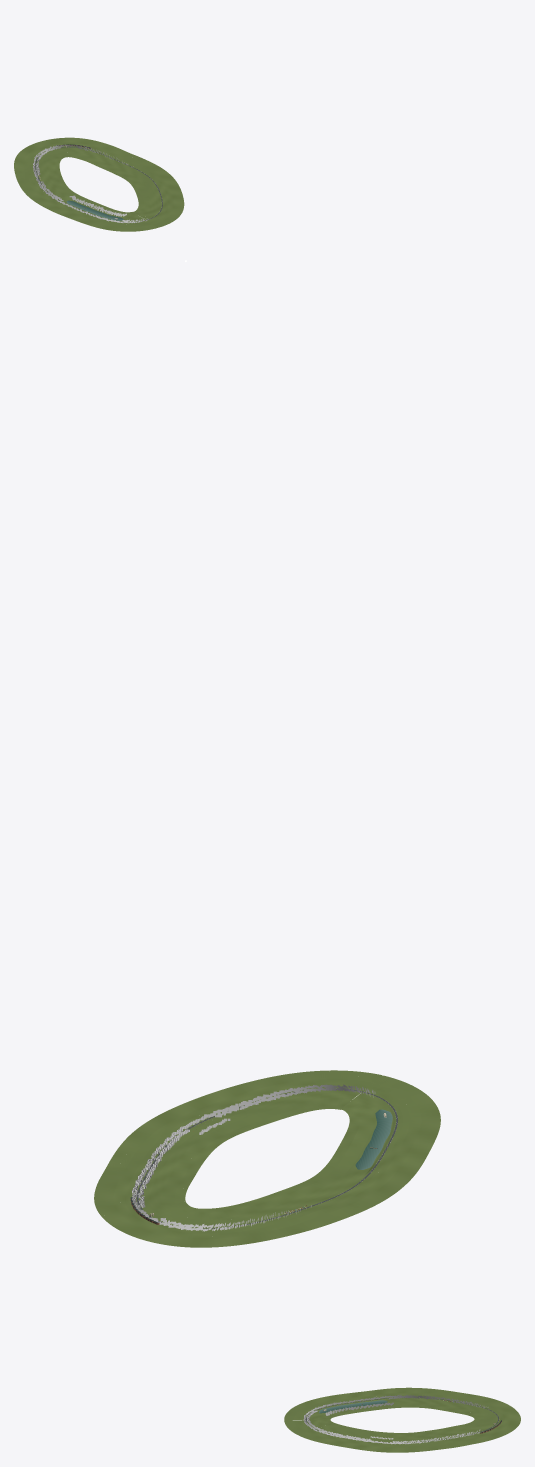
Rendered from prospect.glb.
3 views of the same model, one above another, from view 1: azimuth 30°, elevation 25°; view 2: azimuth 150°, elevation 25°; view 3: azimuth 270°, elevation 25° (orthographic). The views are drawn at different scales.
Parts seen in each view (by area): view 1: BrooklynLawn_029, BrooklynLawn_035, BrooklynLawn_042, BrooklynLawn_041, BrooklynLawn_036, BrooklynLawn_043, BrooklynLawn_044, BrooklynLawn_028, BrooklynLawn_001, BrooklynLawn_033, BrooklynLawn_031, BrooklynLawn_045 (+7 smaller); view 2: BrooklynLawn_043, BrooklynLawn_042, BrooklynLawn_044, BrooklynLawn_041, BrooklynLawn_029, BrooklynLawn_045, BrooklynLawn_036, BrooklynLawn_033, BrooklynLawn_028, BrooklynLawn_035, BrooklynLawn_031; view 3: BrooklynLawn_035, BrooklynLawn_041, BrooklynLawn_042, BrooklynLawn_036, BrooklynLawn_043, BrooklynLawn_044, BrooklynLawn_039, BrooklynLawn_029, BrooklynLawn_033, BrooklynLawn_001, BrooklynLawn_028, BrooklynLawn_040 (+14 smaller).
Part boxes in pixels (x1,y1,x2,y2): BrooklynLawn_029: [136, 191, 183, 201]; BrooklynLawn_035: [88, 147, 130, 167]; BrooklynLawn_042: [14, 169, 61, 179]; BrooklynLawn_041: [14, 161, 59, 170]; BrooklynLawn_036: [77, 141, 116, 161]; BrooklynLawn_043: [17, 176, 64, 187]; BrooklynLawn_044: [21, 183, 69, 196]; BrooklynLawn_028: [138, 200, 184, 208]; BrooklynLawn_001: [136, 207, 182, 221]; BrooklynLawn_033: [113, 159, 157, 177]; BrooklynLawn_031: [130, 175, 176, 187]; BrooklynLawn_045: [29, 189, 75, 204]; BrooklynLawn_043: [270, 1186, 357, 1224]; BrooklynLawn_042: [244, 1195, 326, 1234]; BrooklynLawn_044: [293, 1178, 385, 1213]; BrooklynLawn_041: [220, 1203, 294, 1242]; BrooklynLawn_029: [210, 1084, 292, 1123]; BrooklynLawn_045: [310, 1169, 405, 1199]; BrooklynLawn_036: [94, 1182, 187, 1199]; BrooklynLawn_033: [116, 1136, 211, 1162]; BrooklynLawn_028: [242, 1075, 314, 1115]; BrooklynLawn_035: [98, 1168, 194, 1188]; BrooklynLawn_031: [152, 1106, 241, 1140]; BrooklynLawn_035: [439, 1426, 470, 1447]; BrooklynLawn_041: [455, 1395, 493, 1414]; BrooklynLawn_042: [440, 1392, 473, 1412]; BrooklynLawn_036: [455, 1423, 490, 1444]; BrooklynLawn_043: [424, 1389, 455, 1409]; BrooklynLawn_044: [410, 1388, 435, 1407]; BrooklynLawn_039: [473, 1407, 520, 1419]; BrooklynLawn_029: [329, 1427, 363, 1447]; BrooklynLawn_033: [407, 1431, 432, 1452]; BrooklynLawn_001: [290, 1421, 335, 1438]; BrooklynLawn_028: [311, 1424, 348, 1444]; BrooklynLawn_040: [467, 1399, 511, 1416].
Size of the model in its own units: 4544 by 3730 by 6598.
